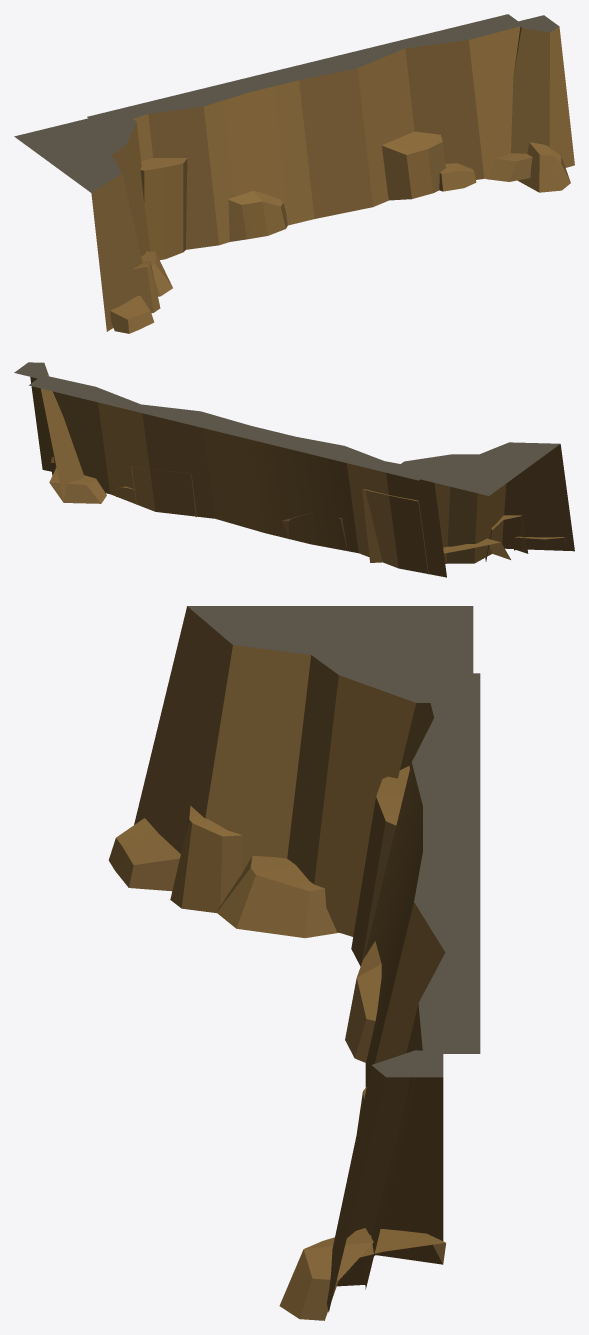
Rendered from Cliff.fbx.
The picture shows the model from 3 angles, top to bottom: view 1: azimuth 30°, elevation 25°; view 2: azimuth 150°, elevation 25°; view 3: azimuth 270°, elevation 25°; orthographic projection. The views are drawn at different scales.
Visible parts, largest first — view 1: New Game Object; view 2: New Game Object; view 3: New Game Object.
Part boxes in pixels (x1=…): New Game Object: x1=14, y1=14, x2=574, y2=333; New Game Object: x1=14, y1=362, x2=574, y2=577; New Game Object: x1=108, y1=606, x2=480, y2=1320.
Bounding box in the file's own units: 24.33 × 6.09 × 8.11.
